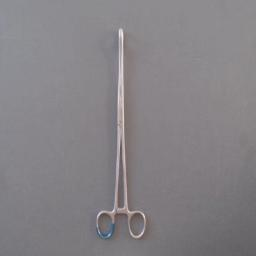Sponge Forceps: (93, 24, 149, 244)
